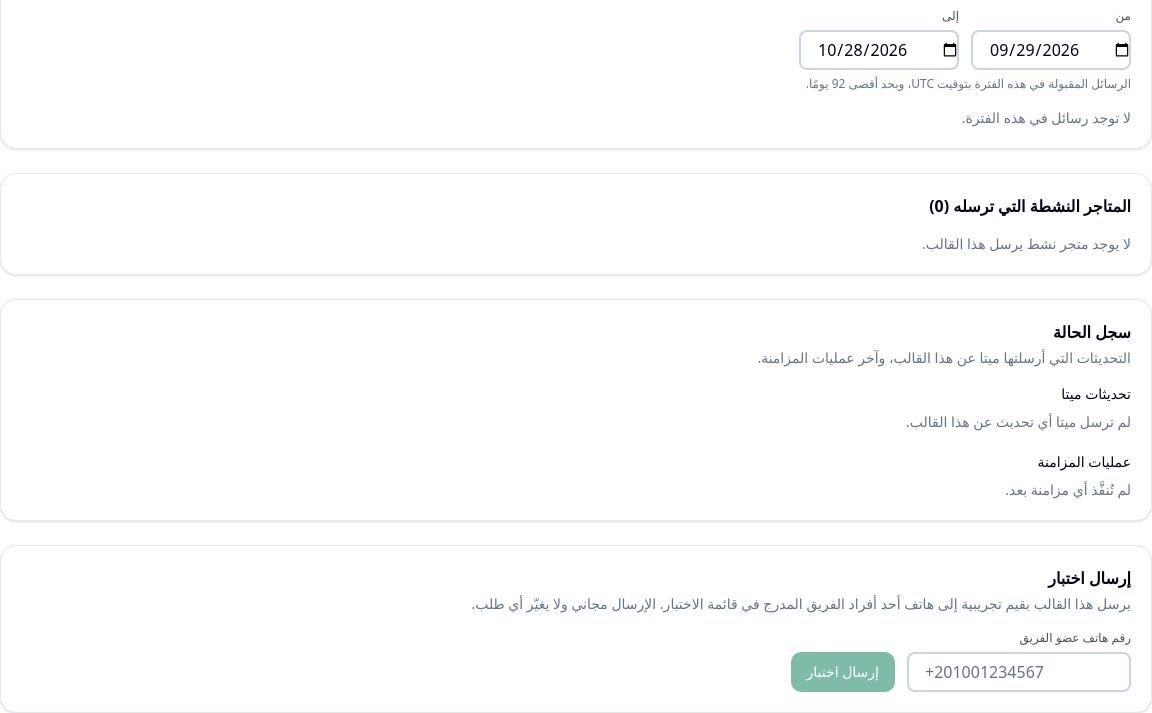
Test: TemplateDetailAdminPage › explains a refused test send by its code
The width and height of the screenshot is (1152, 713).
(page scrolled)
In the field labelled "رقم هاتف عضو الفريق": (1019, 672) x1=907 y1=652 x2=1131 y2=692, type "+201009999999"
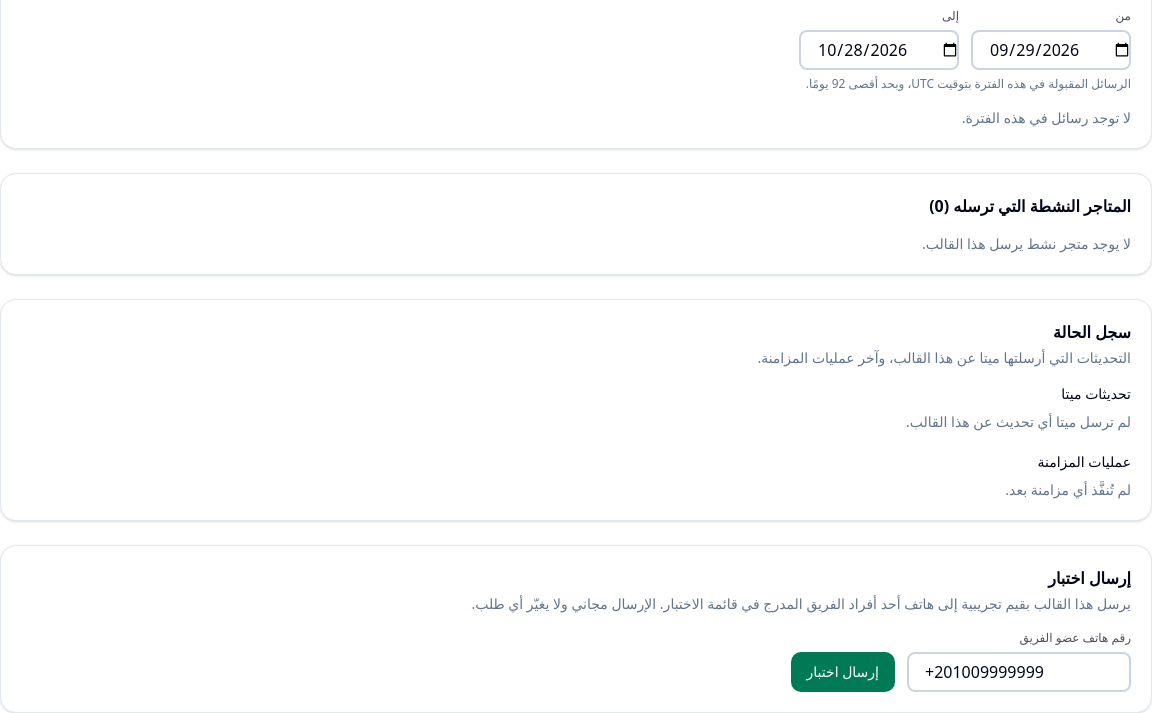
Click the button "إرسال اختبار": (843, 672) x1=790 y1=652 x2=895 y2=692
(page scrolled)
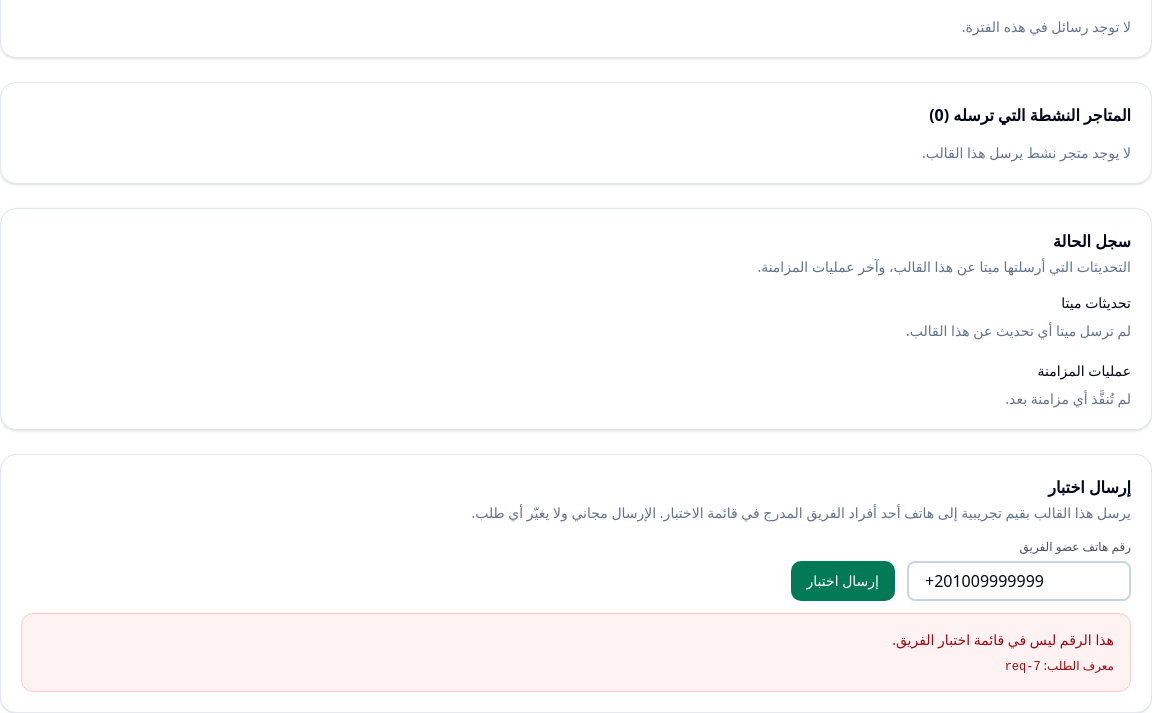
expect the message does not show "201009999999": met
expect the message shows "هذا الرقم ليس في قائمة اختبار الفريق.": met, box x1=892 y1=630 x2=1114 y2=649
expect the message shows "req-7": met, box x1=1005 y1=660 x2=1041 y2=674
